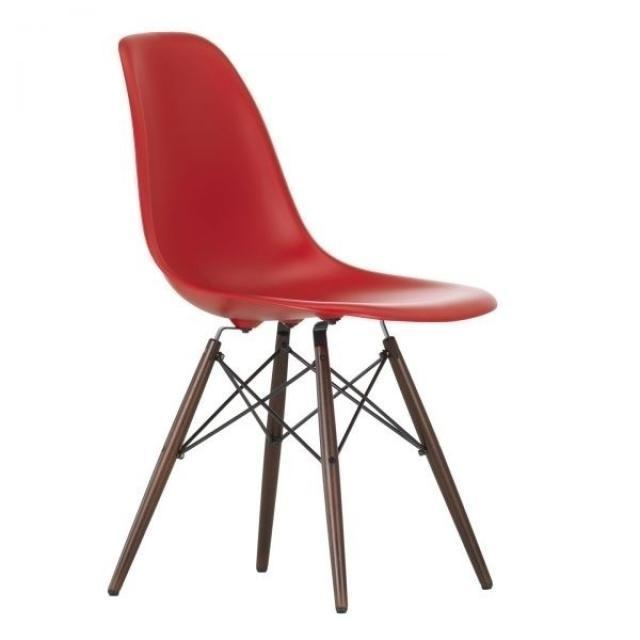chair: (108, 31, 494, 614)
